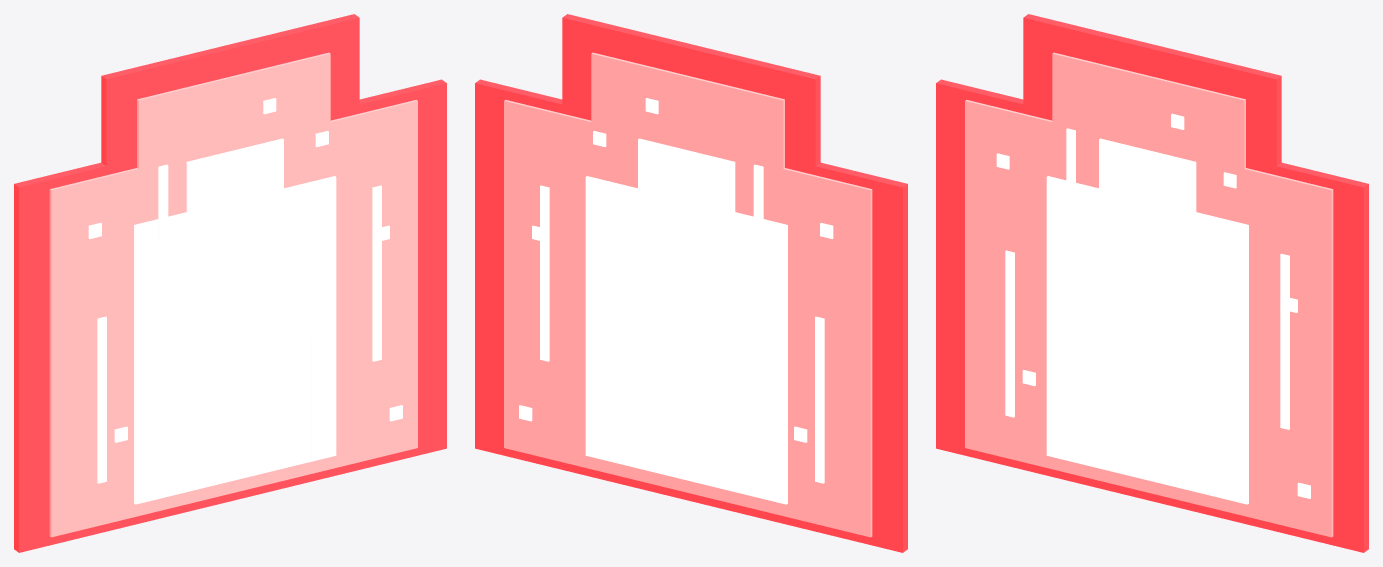
The model's file is tt-portal-red.glb.
The picture shows the model from 3 angles, left to right: view 1: azimuth 30°, elevation 25°; view 2: azimuth 150°, elevation 25°; view 3: azimuth 330°, elevation 25°; orthographic projection.
Visible parts, largest first — view 1: box-prop; view 2: box-prop; view 3: box-prop.
Boxes of the visible parts, x1=… form: box-prop: x1=14, y1=14, x2=446, y2=552; box-prop: x1=475, y1=14, x2=907, y2=552; box-prop: x1=936, y1=14, x2=1368, y2=552.
Size of the model in its own units: 4.9 by 4.95 by 0.3.
